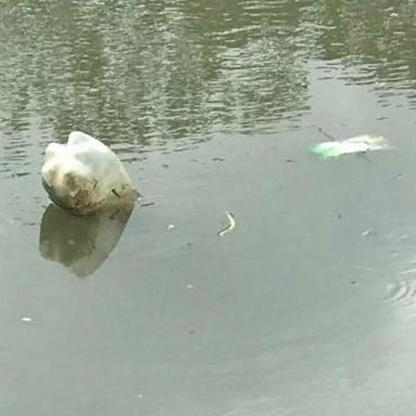plastic bag: (309, 130, 391, 158)
plastic bottle: (40, 130, 132, 210)
